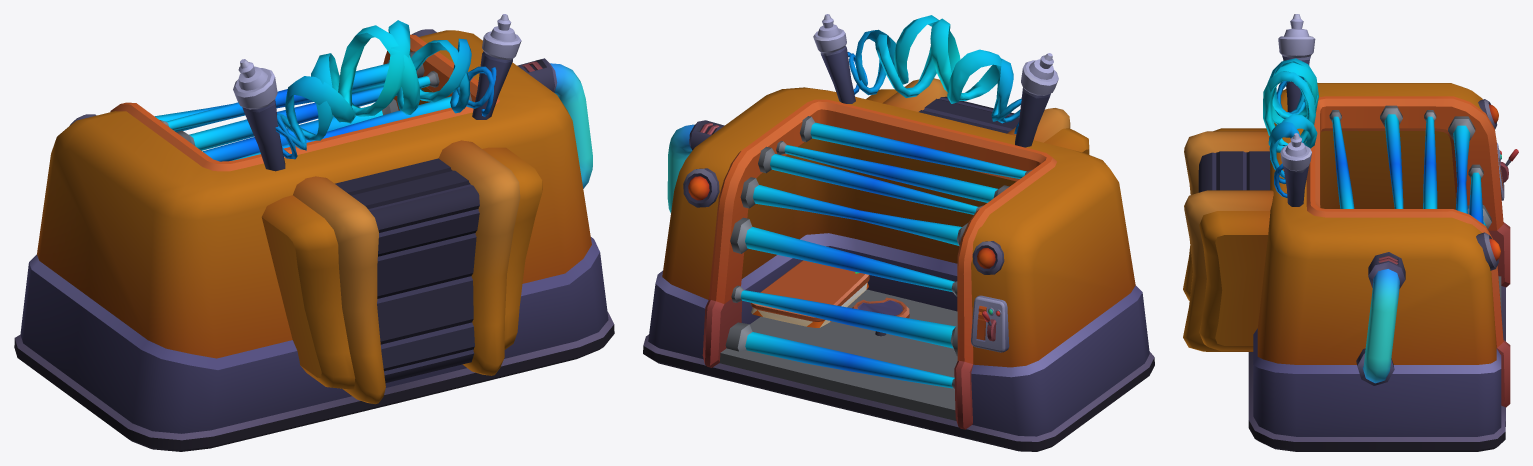
Rendered from SM_Cage _01.fbx.
3 views of the same model, side by side, from view 1: azimuth 30°, elevation 25°; view 2: azimuth 150°, elevation 25°; view 3: azimuth 270°, elevation 25° (orthographic). The views are drawn at different scales.
Parts seen in each view (by area): view 1: SM_Cage _01; view 2: SM_Cage _01; view 3: SM_Cage _01.
Boxes of the visible parts, x1=… form: SM_Cage _01: x1=14, y1=14, x2=614, y2=451; SM_Cage _01: x1=643, y1=14, x2=1154, y2=451; SM_Cage _01: x1=1183, y1=14, x2=1518, y2=451.
Size of the model in its own units: 6.72 by 4.49 by 4.6.
